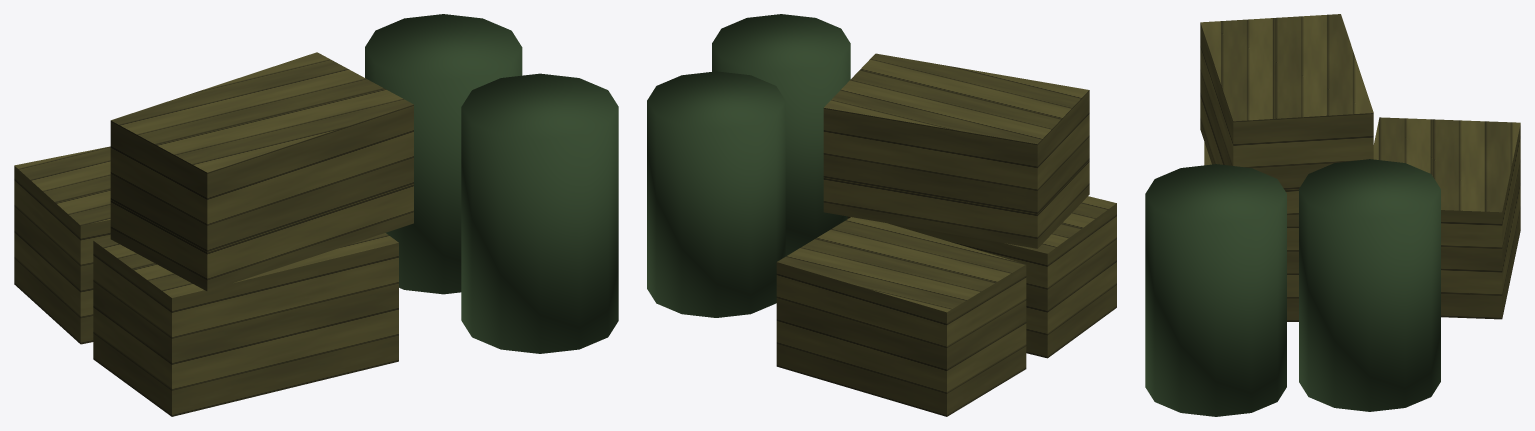
File: supplies.fbx
3 views of the same model, side by side, from view 1: azimuth 30°, elevation 25°; view 2: azimuth 150°, elevation 25°; view 3: azimuth 270°, elevation 25° (orthographic). The views are drawn at different scales.
Parts seen in each view (by area): view 1: Supplies; view 2: Supplies; view 3: Supplies.
Boxes of the visible parts, x1,y1,x2,y2 form: Supplies: (14, 14, 618, 416); Supplies: (647, 14, 1116, 416); Supplies: (1145, 14, 1520, 416).
Size of the model in its own units: 1.95 by 1 by 1.59.
